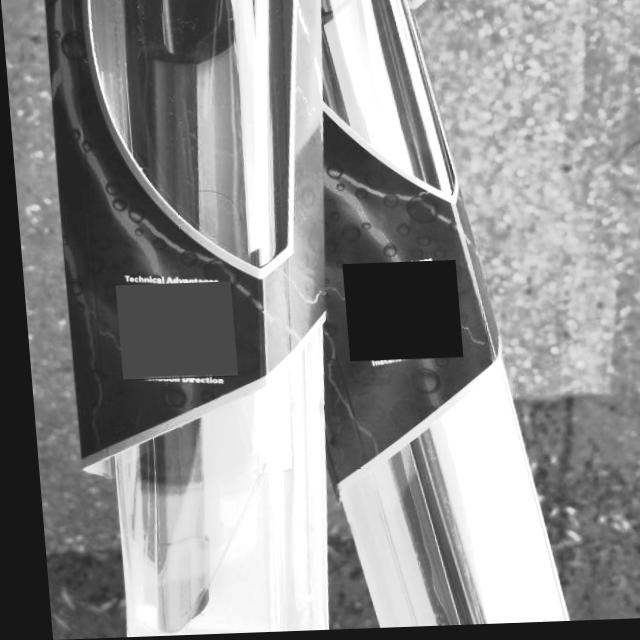qr_code: (337, 263, 456, 364), (110, 284, 231, 381)
